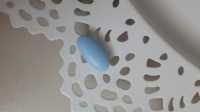Apranax: (75, 34, 111, 73)
